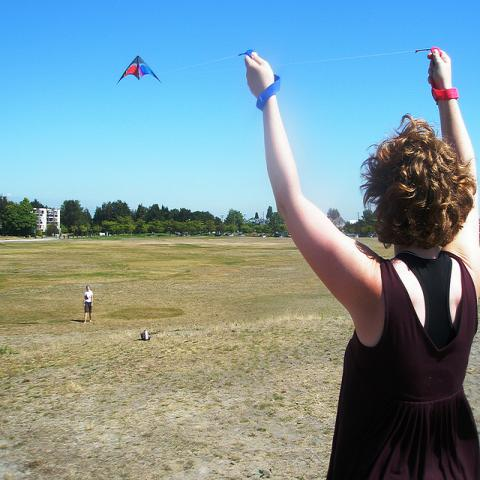car: (258, 233, 266, 237), (248, 233, 254, 236)
